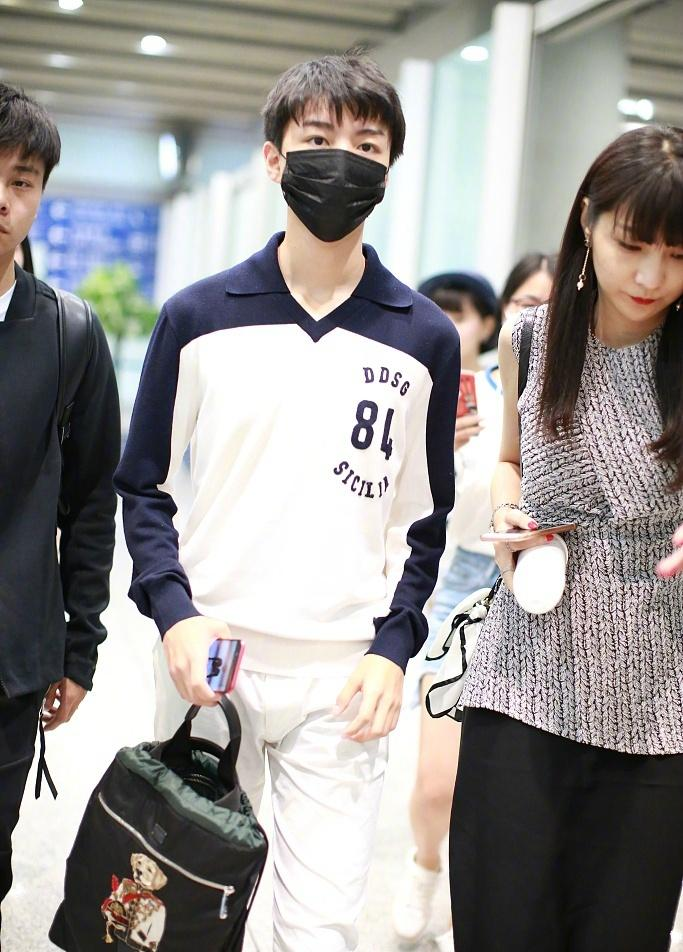face: (596, 196, 682, 325)
face_mask: (283, 89, 385, 242), (1, 160, 53, 250)
